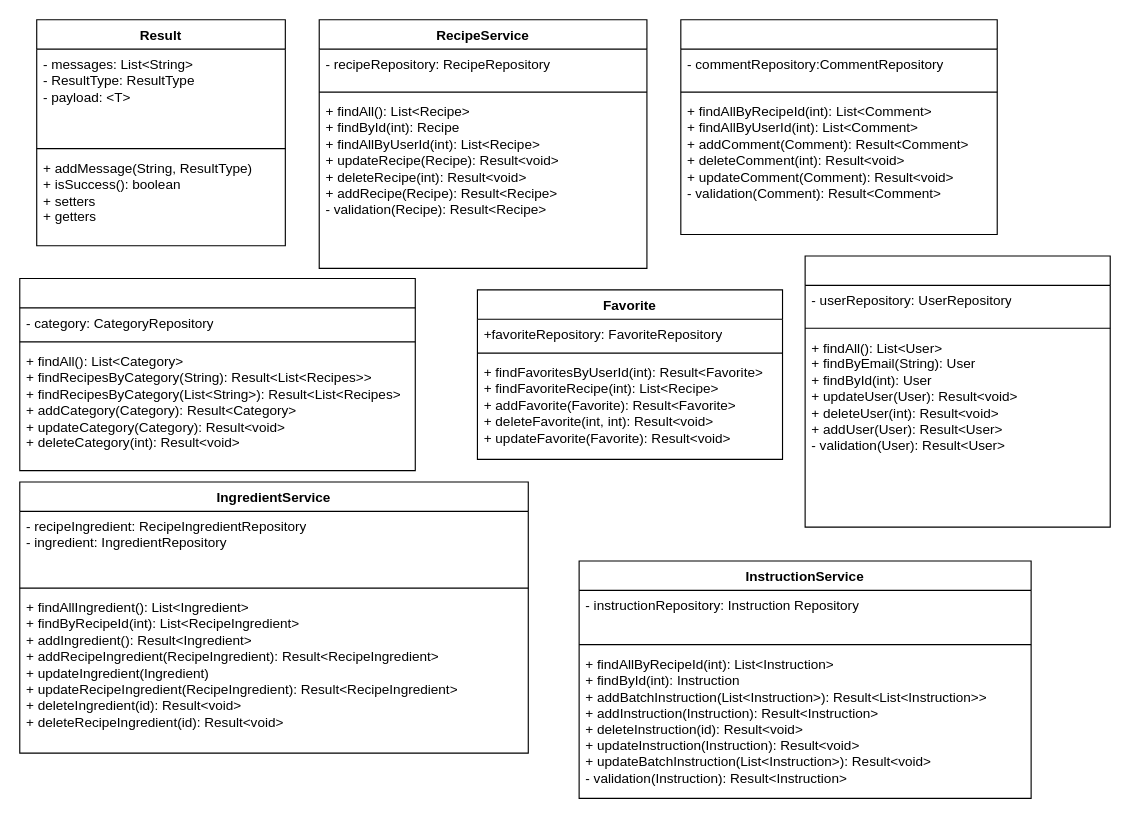
This 1130x822 diagram has some shape labels left out. The box of each missing label's shape, as (x1, y1, x2, y2) in pixels:
CategoryService: (19, 277, 415, 471)
CommentService: (680, 19, 997, 234)
UserService: (804, 255, 1110, 527)
